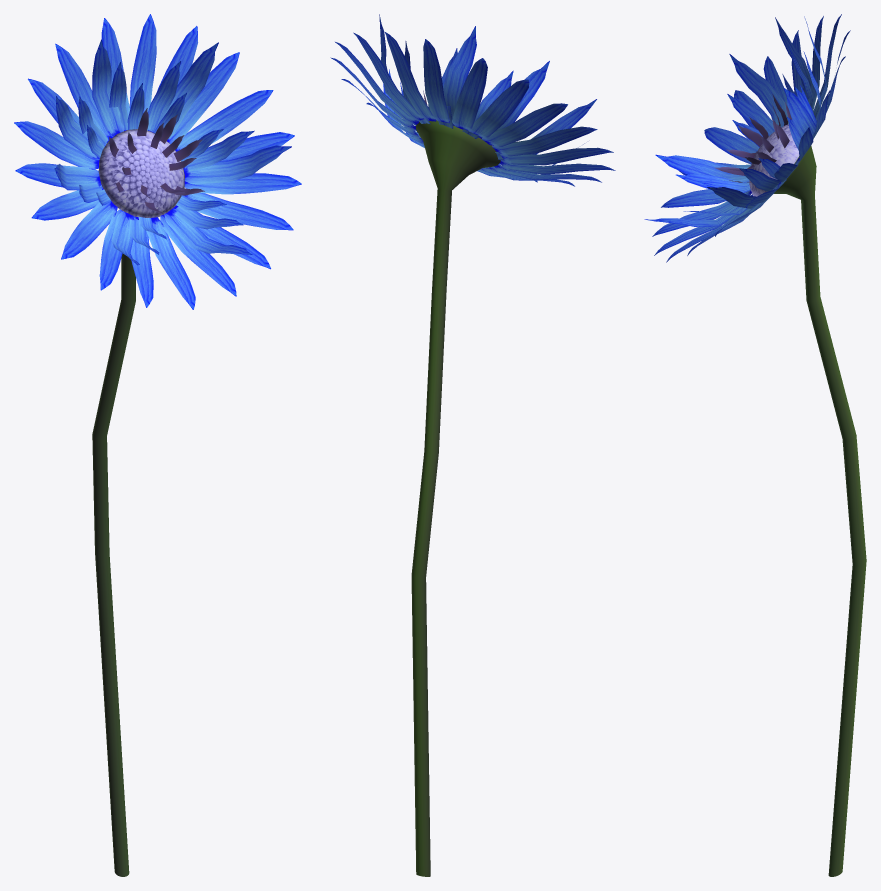
File: Cornflower.fbx
The picture shows the model from 3 angles, left to right: view 1: azimuth 30°, elevation 25°; view 2: azimuth 150°, elevation 25°; view 3: azimuth 270°, elevation 25°; orthographic projection.
Visible parts, largest first — view 1: Cornflower; view 2: Cornflower; view 3: Cornflower.
Part boxes in pixels (x1,y1,x2,y2): Cornflower: (14,14,301,876); Cornflower: (330,14,615,876); Cornflower: (644,14,866,876).
Size of the model in its own units: 9.92 by 30.13 by 7.21.
